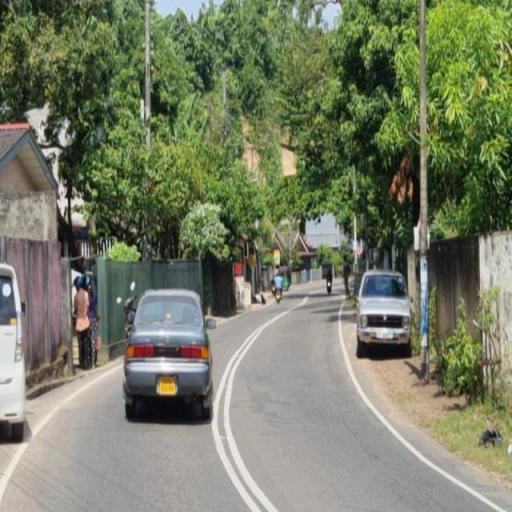double_white_line: (210, 289, 282, 510)
